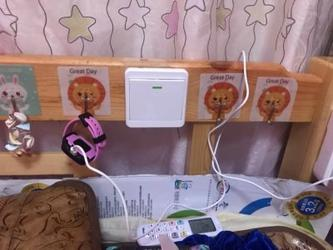switch: (131, 74, 185, 124)
